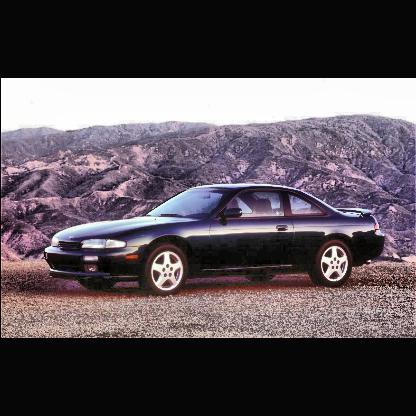Nissan 240SX Coupe 1998: (41, 183, 387, 300)
